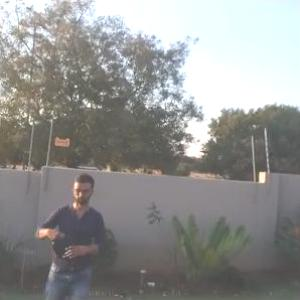follow: (32, 164, 108, 299)
